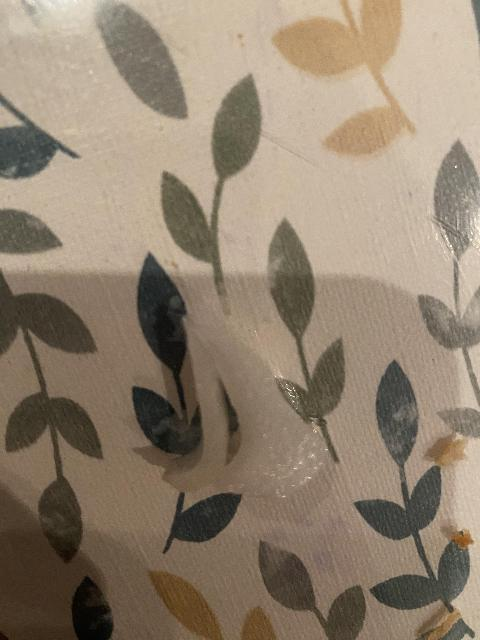Organik: (138, 303, 349, 511)
